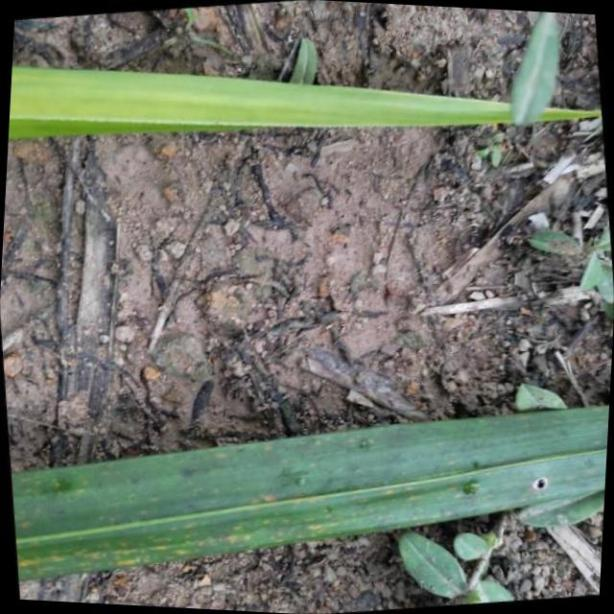nitrogen: (9, 67, 614, 136)
